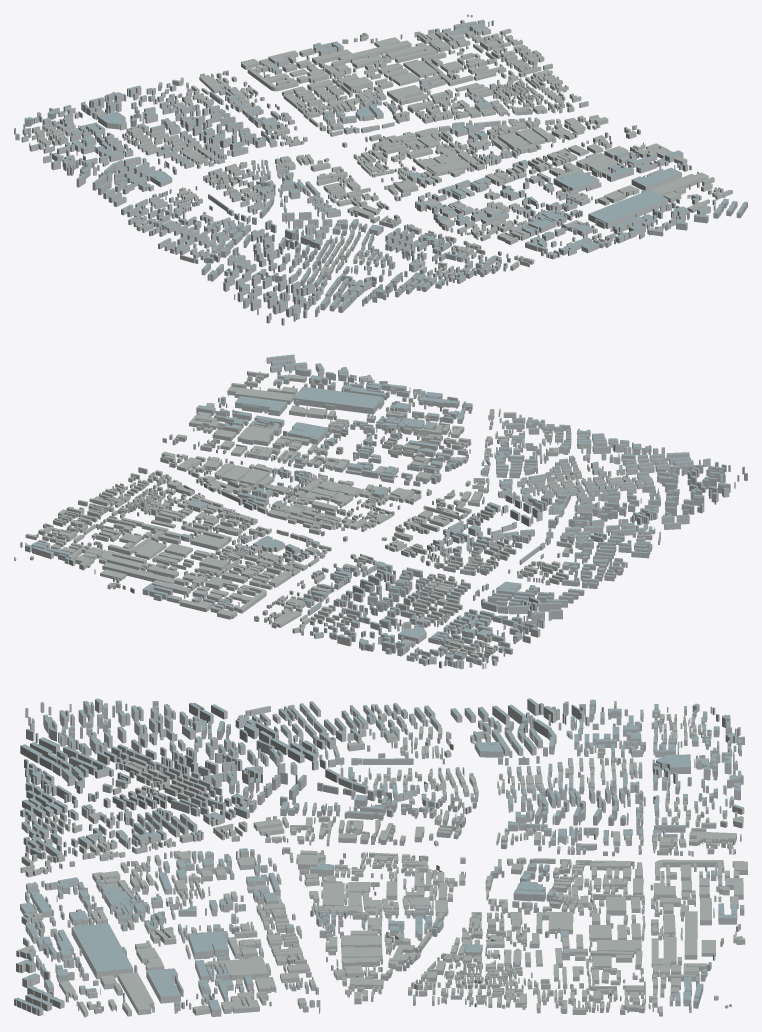
The model's file is far.glb.
The picture shows the model from 3 angles, top to bottom: view 1: azimuth 30°, elevation 25°; view 2: azimuth 150°, elevation 25°; view 3: azimuth 270°, elevation 25°; orthographic projection. The views are drawn at different scales.
Size of the model in its own units: 2140 by 36.9 by 2140.
